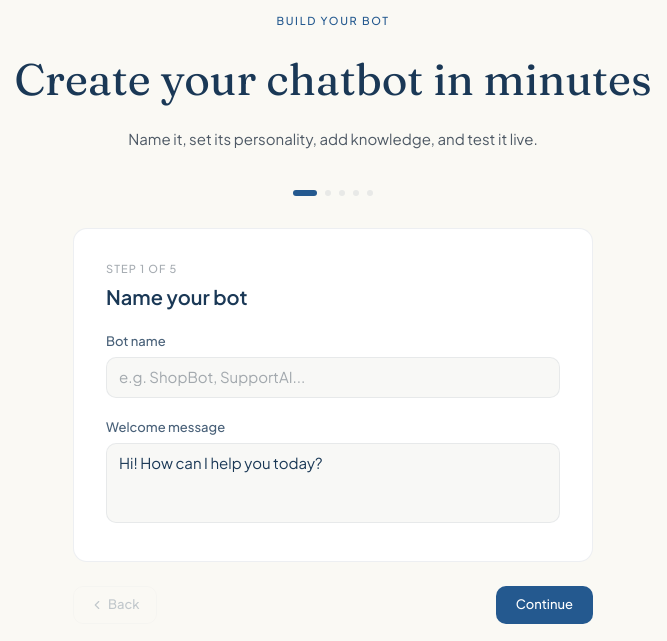
Scenario: LandingWizard new user signup flow › navigates back from step 2 to step 1
The image size is (667, 641).
In the field with placeholder "e.g. ShopBot, SupportAI...": (333, 377) [106,357,560,398], type "TestBot"
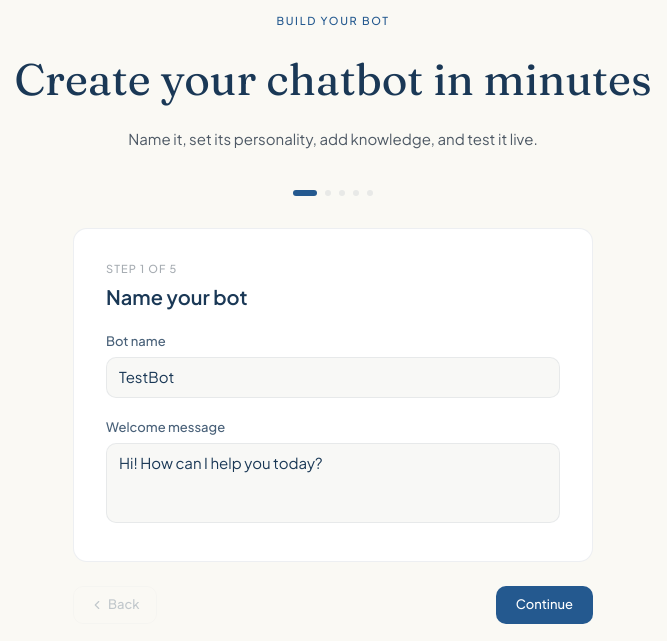
Click the button "Continue": (544, 605) [496,586,593,624]
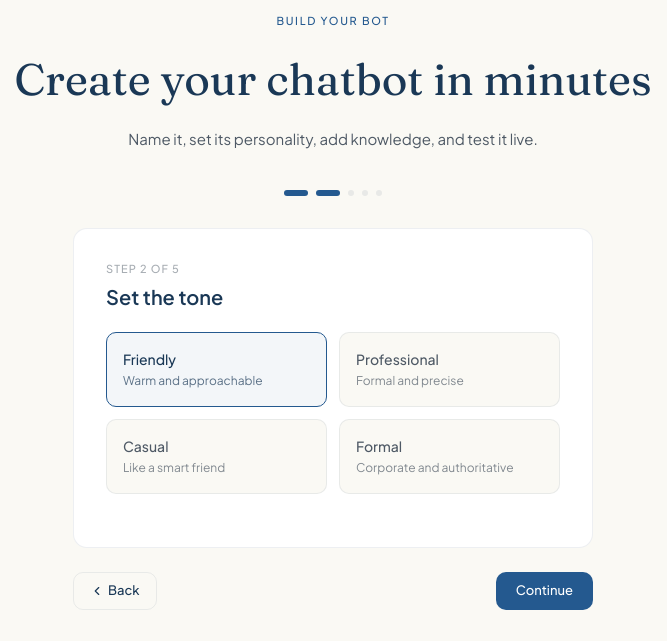
Check: the heading "Set the tone" is shown, box [106,284,223,308]
Click the button "Back": (115, 591) [73,572,157,610]
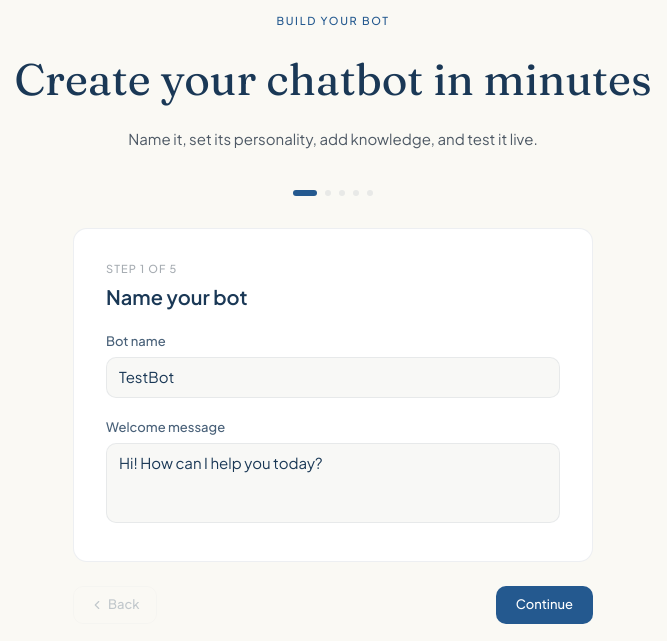
Check: the heading "Name your bot" is shown, box [106,284,248,308]
